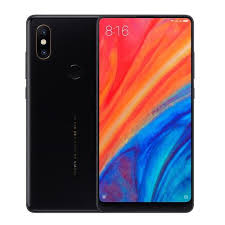mi: (95, 12, 195, 216), (23, 11, 98, 213)
